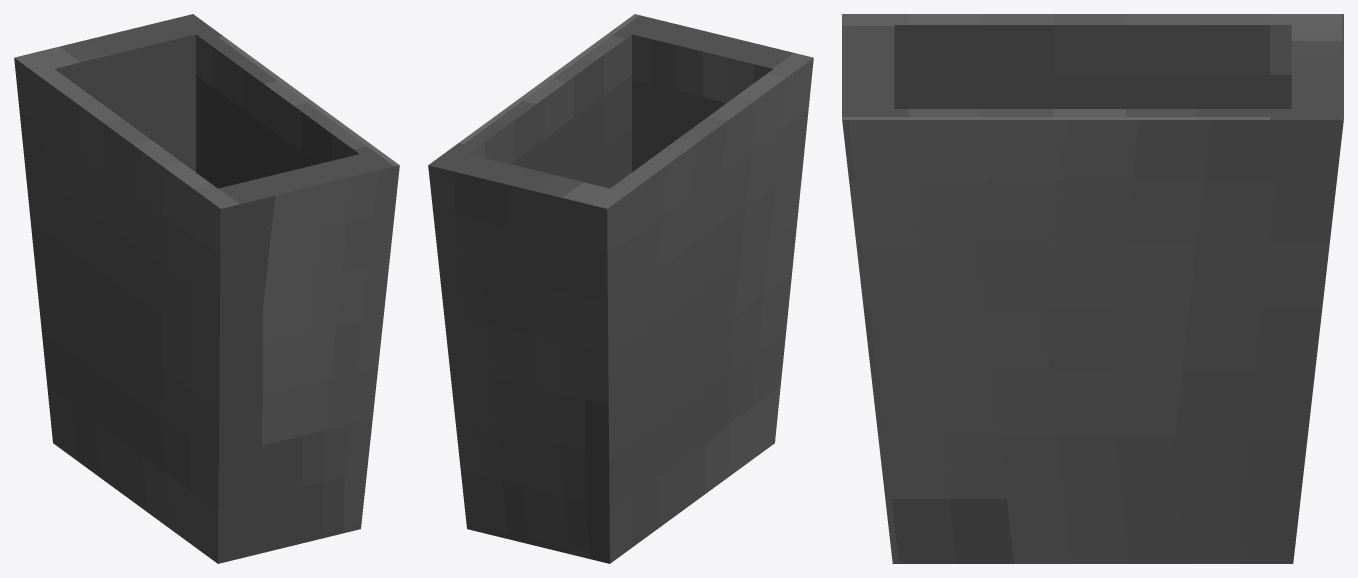
The model's file is sopptunna_liten.fbx.
The picture shows the model from 3 angles, left to right: view 1: azimuth 30°, elevation 25°; view 2: azimuth 150°, elevation 25°; view 3: azimuth 270°, elevation 25°; orthographic projection. The views are drawn at different scales.
Parts seen in each view (by area): view 1: sopptunna liten; view 2: sopptunna liten; view 3: sopptunna liten.
Part boxes in pixels (bbox=[...]): sopptunna liten: bbox=[14, 14, 399, 563]; sopptunna liten: bbox=[428, 14, 813, 563]; sopptunna liten: bbox=[842, 14, 1343, 563].
Size of the model in its own units: 25 by 50 by 50.
1 material, 1 textured.
